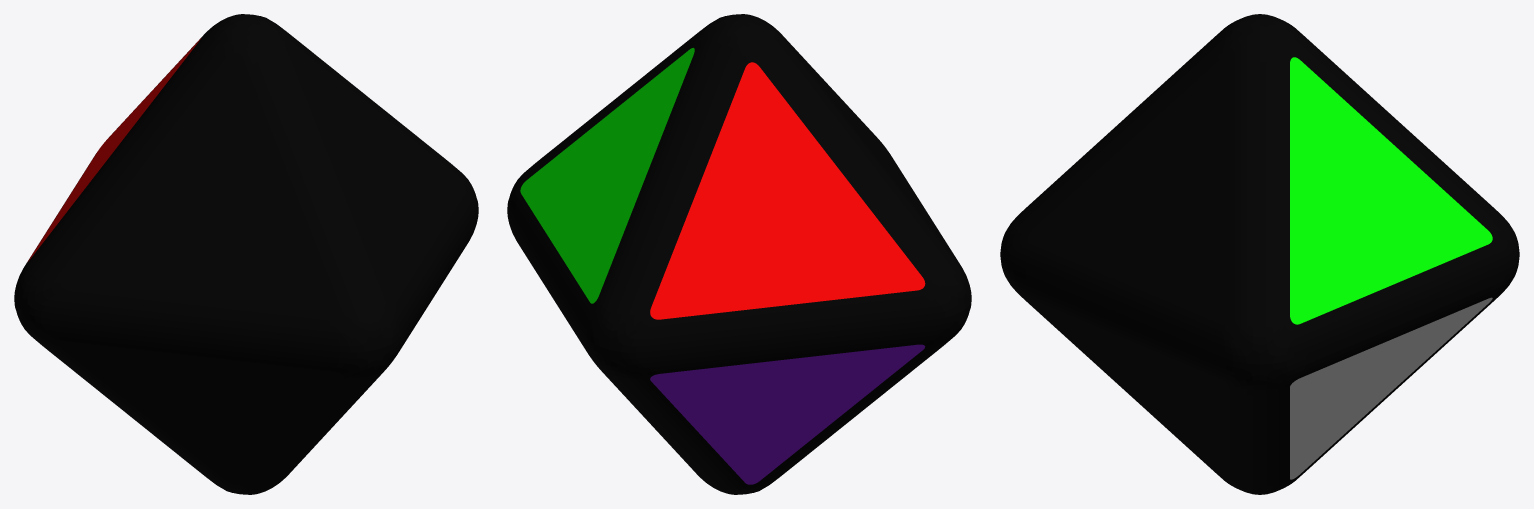
Rendered from forward.fbx.
3 views of the same model, side by side, from view 1: azimuth 30°, elevation 25°; view 2: azimuth 150°, elevation 25°; view 3: azimuth 270°, elevation 25° (orthographic).
Visible parts, largest first — view 1: forward; view 2: forward; view 3: forward.
Boxes of the visible parts, x1=… form: forward: x1=14, y1=14, x2=478, y2=494; forward: x1=507, y1=14, x2=971, y2=494; forward: x1=1000, y1=14, x2=1519, y2=494.
Size of the model in its own units: 174 by 174 by 174.
